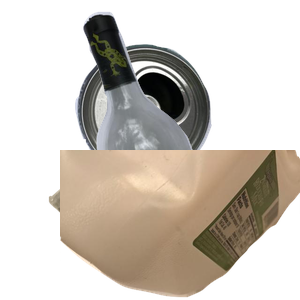glass: (81, 10, 300, 190)
metal: (73, 42, 277, 212)
plastic: (60, 150, 300, 300)
trash: (46, 144, 188, 300)
